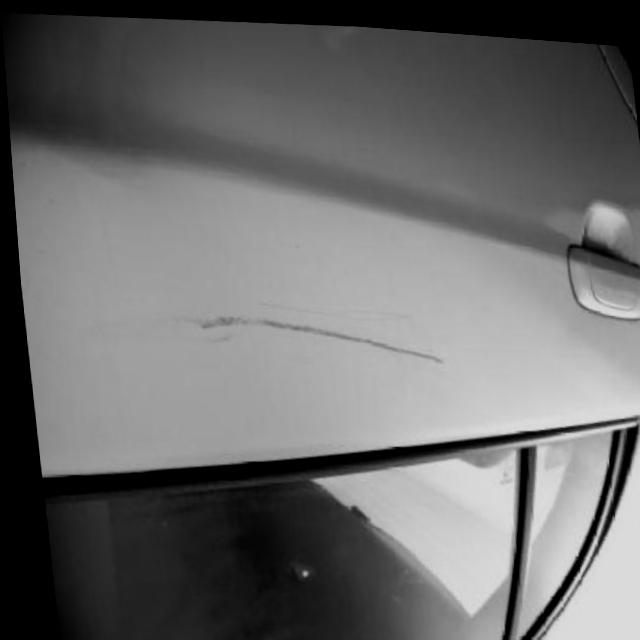Scratch: (194, 311, 452, 363)
